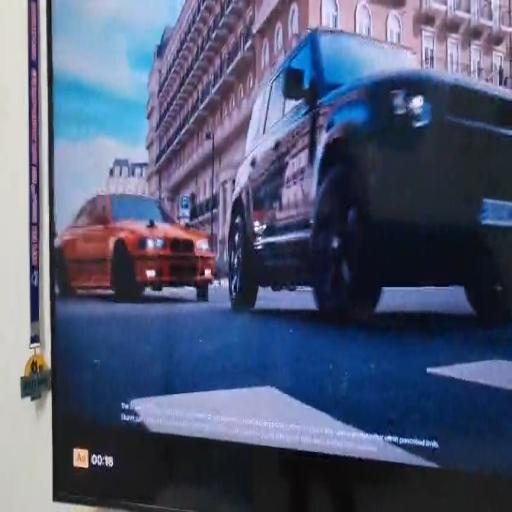ad label: (73, 445, 89, 470)
